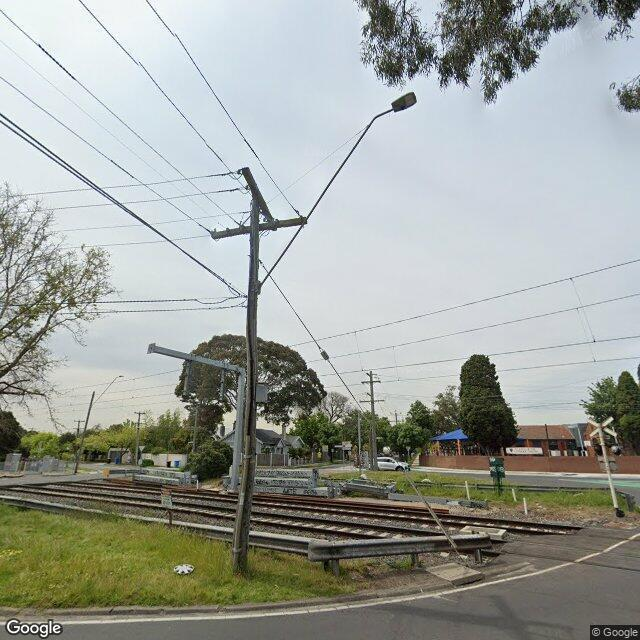HV-transmission: (390, 410, 402, 416), (74, 419, 85, 422)
crossarm: (209, 210, 308, 242), (236, 166, 277, 235), (366, 373, 382, 379), (361, 380, 381, 384), (359, 399, 385, 402), (389, 420, 405, 422), (134, 412, 146, 414), (367, 391, 371, 397), (74, 420, 85, 422), (74, 427, 84, 429), (392, 414, 400, 416)
streetlight: (257, 91, 418, 294), (92, 376, 125, 406)
timber-pole: (232, 198, 260, 573), (74, 390, 95, 474), (370, 371, 377, 471), (135, 411, 141, 464), (77, 420, 81, 436), (395, 413, 398, 425)
